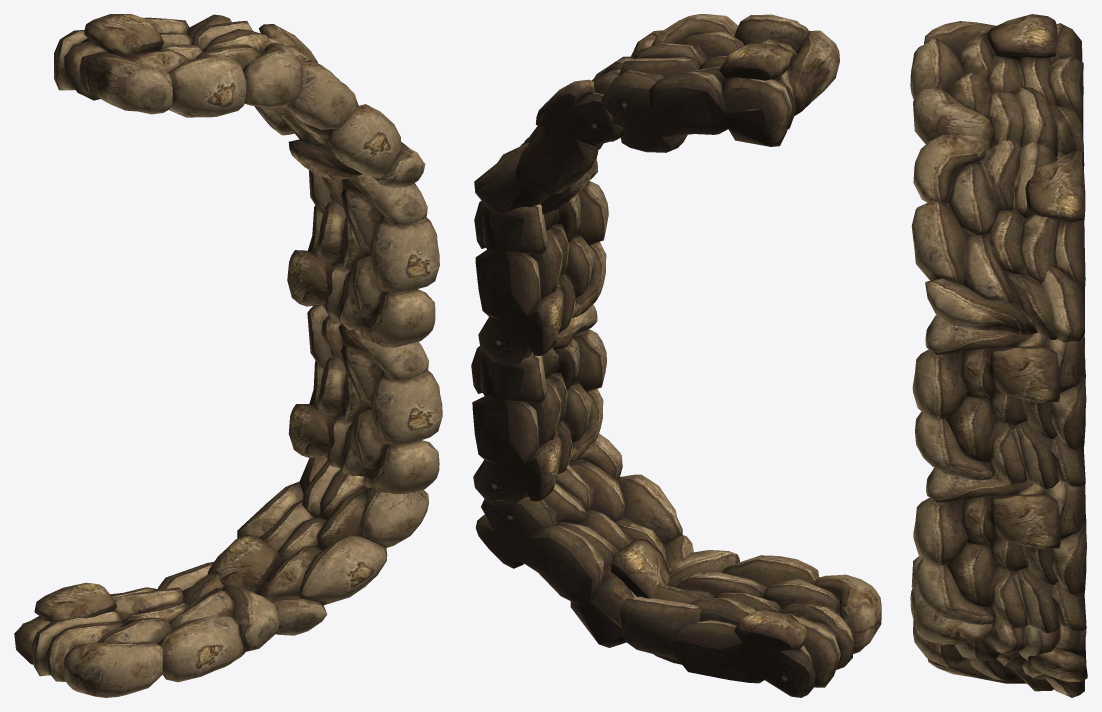
The model's file is sandbags.obj.
3 views of the same model, side by side, from view 1: azimuth 30°, elevation 25°; view 2: azimuth 150°, elevation 25°; view 3: azimuth 270°, elevation 25° (orthographic). The views are drawn at different scales.
Visible parts, largest first — view 1: Box02; view 2: Box02; view 3: Box02.
Part boxes in pixels (<box>): Box02: <box>14,14,442,697</box>; Box02: <box>471,14,881,697</box>; Box02: <box>910,14,1087,697</box>.
Size of the model in its own units: 5.56 by 9.26 by 2.4.
1 material, 1 textured.
